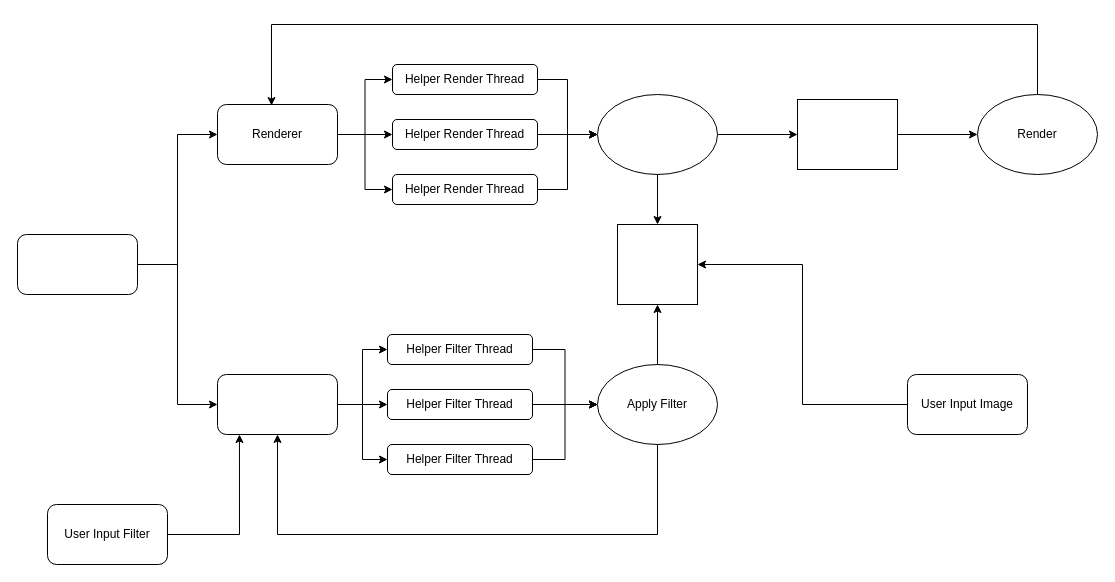
Image size: 1115x582. Some labels were removed from this diagram. Each missing label, with the centre of its shape:
"Filter" belongs at (277,404).
"Image" belongs at (657,264).
"Image to Render" belongs at (847,134).
"Main" belongs at (77,264).
"Set Pixel" belongs at (657,134).
